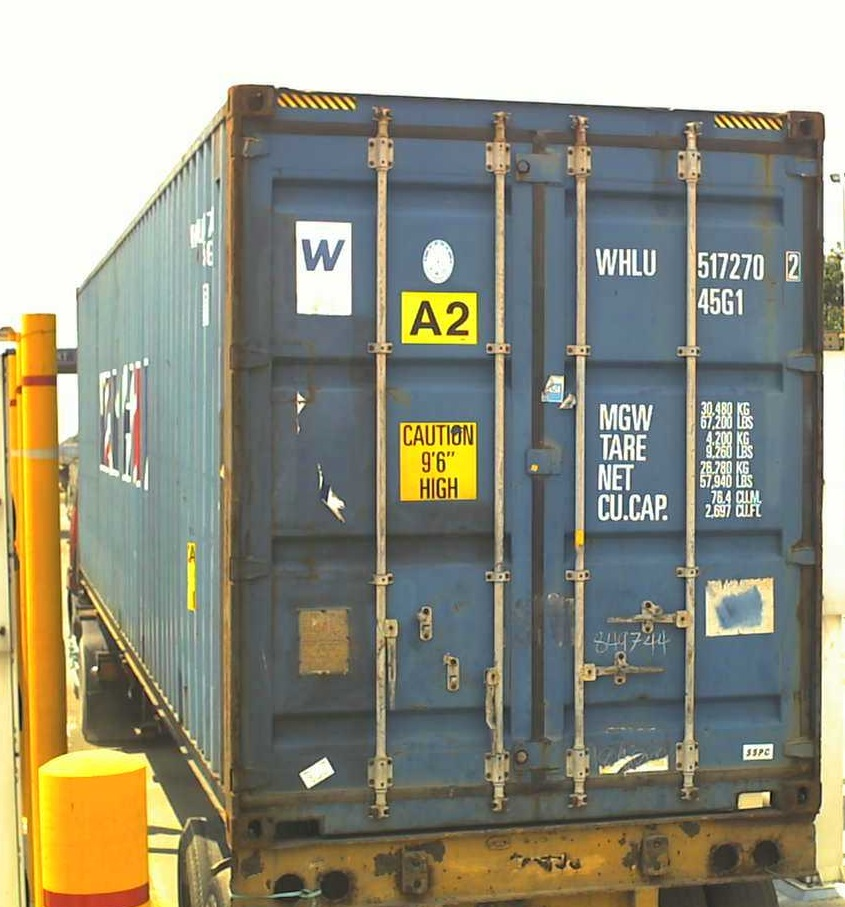container_door: (226, 108, 823, 847)
